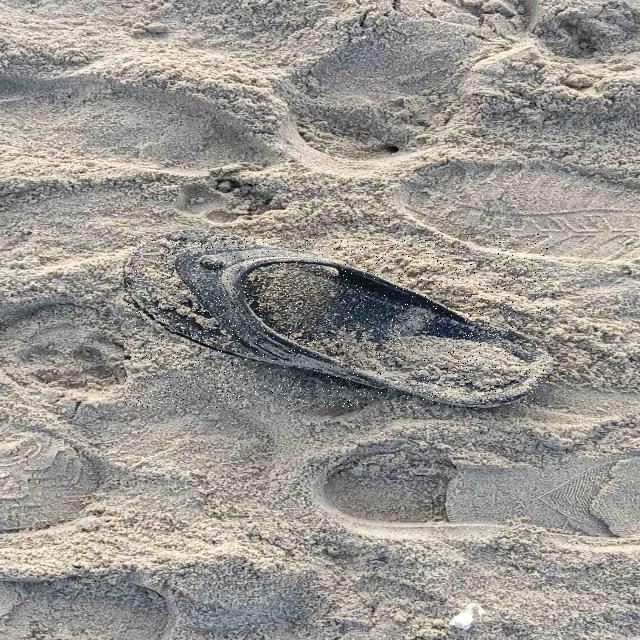other: (124, 234, 551, 408)
